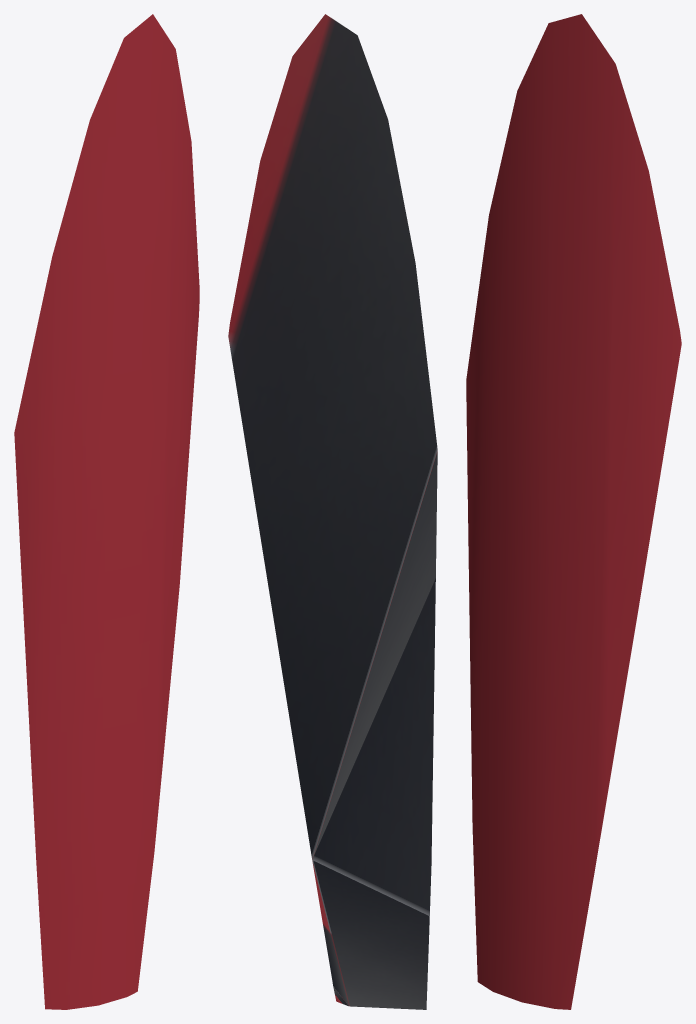
Rendered from torii_broken_045.obj.
3 renders of one model, left to right at view 1: azimuth 30°, elevation 25°; view 2: azimuth 150°, elevation 25°; view 3: azimuth 330°, elevation 25°, orthographic. The views are drawn at different scales.
Visible parts, largest first — view 1: 鳥居.001_cell.045_鳥居.001_cell.027; view 2: 鳥居.001_cell.045_鳥居.001_cell.027; view 3: 鳥居.001_cell.045_鳥居.001_cell.027.
Boxes of the visible parts, bbox=[...] form: 鳥居.001_cell.045_鳥居.001_cell.027: bbox=[14, 14, 199, 1009]; 鳥居.001_cell.045_鳥居.001_cell.027: bbox=[228, 14, 437, 1009]; 鳥居.001_cell.045_鳥居.001_cell.027: bbox=[466, 14, 681, 1009].
Bounding box in the file's own units: 0.2033 × 0.9593 × 0.0839.
Materials: 1 (1 with a texture image).
